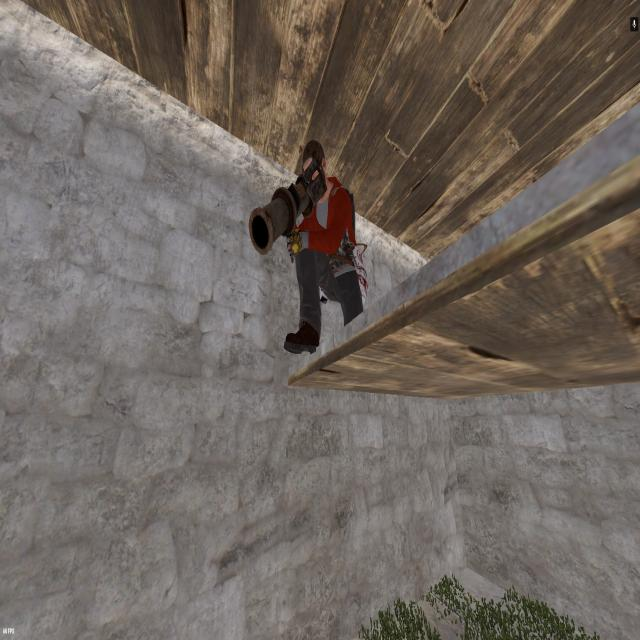Player: (271, 128, 368, 362)
